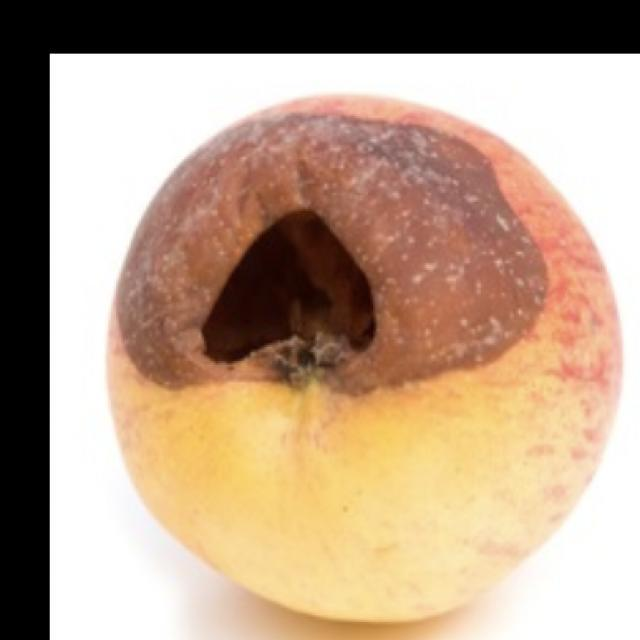Rotten: (142, 117, 600, 623)
